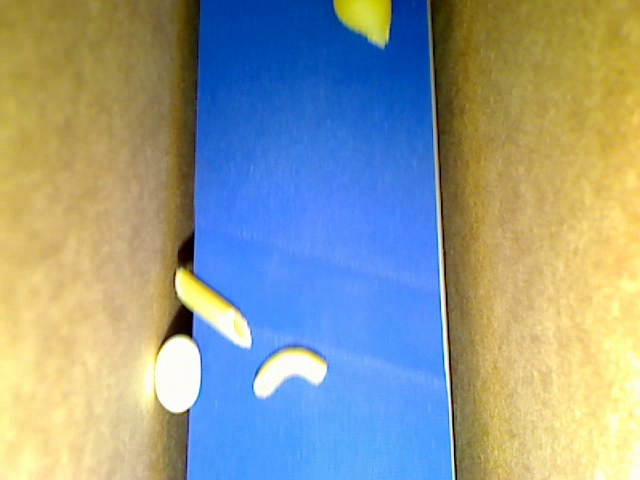elbow: (251, 345, 327, 398)
penne: (173, 267, 252, 349)
shell: (331, 1, 391, 49)
